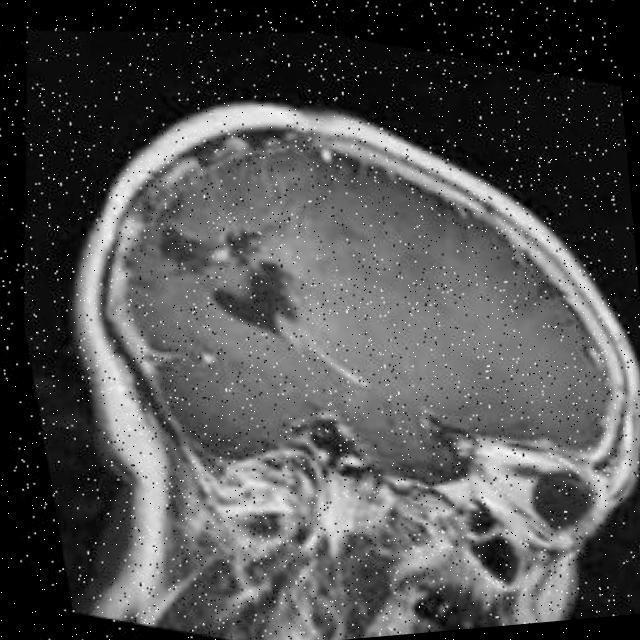EMCI: (108, 220, 351, 448)
